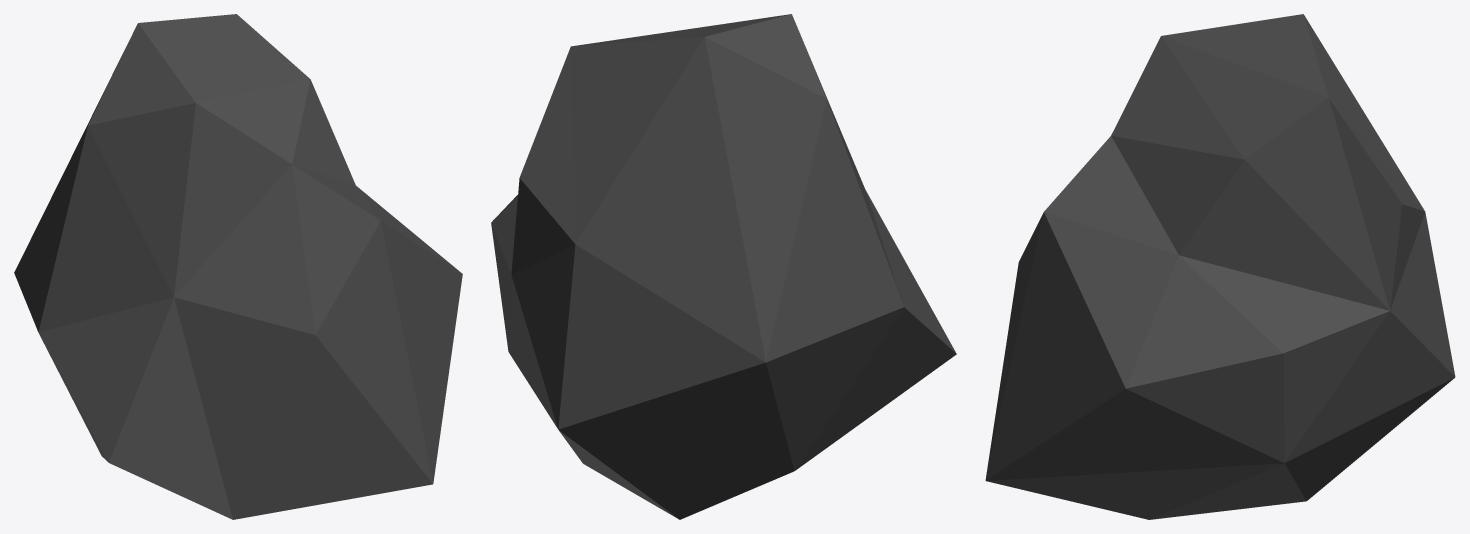
Rendered from Sea_Rock5.fbx.
3 renders of one model, left to right at view 1: azimuth 30°, elevation 25°; view 2: azimuth 150°, elevation 25°; view 3: azimuth 270°, elevation 25°, orthographic. The views are drawn at different scales.
Visible parts, largest first — view 1: Icosphere.008; view 2: Icosphere.008; view 3: Icosphere.008.
Boxes of the visible parts, x1,y1,x2,y2 form: Icosphere.008: (14, 14, 462, 519); Icosphere.008: (491, 14, 956, 519); Icosphere.008: (985, 14, 1455, 519).
Size of the model in its own units: 969 by 1084 by 1004.
